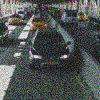cars: (27, 28, 72, 71)
